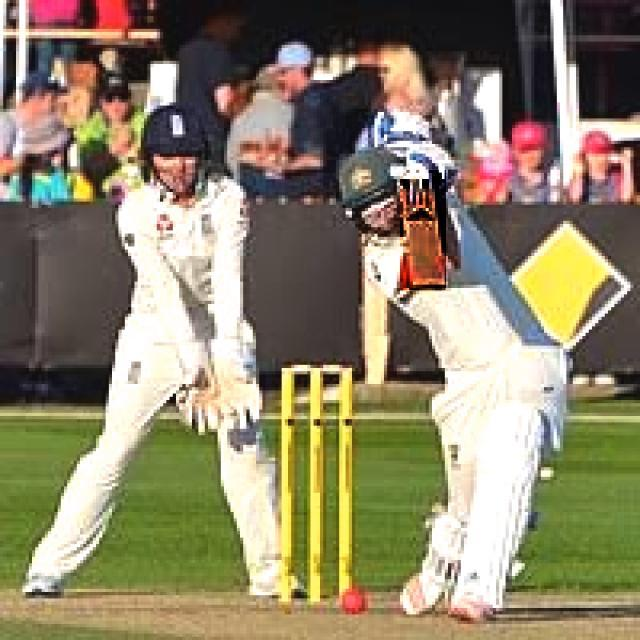bat: (395, 181, 455, 297)
toe: (409, 281, 444, 291)
